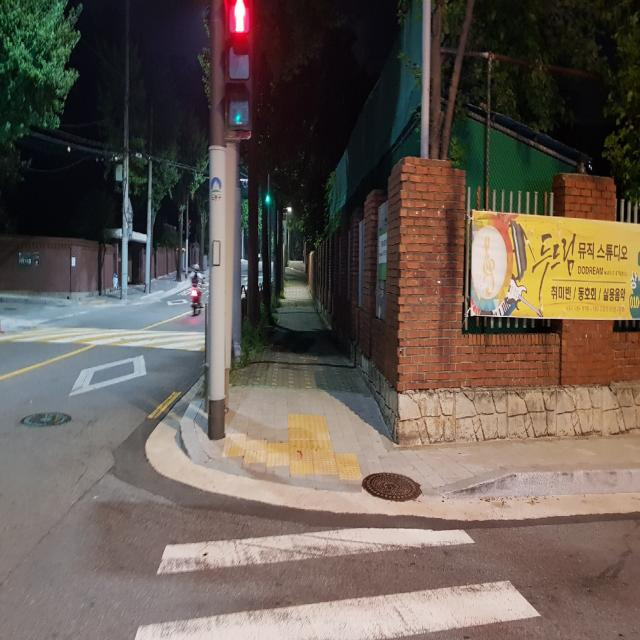빨간불: (222, 3, 257, 140)
횡단보도: (134, 527, 542, 640)
